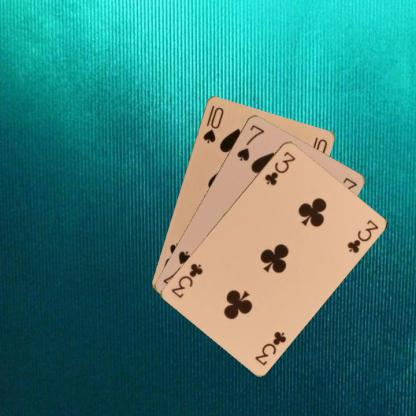10s: (200, 102, 225, 144)
3c: (252, 328, 288, 367), (262, 148, 297, 187)
7s: (234, 122, 266, 162)
